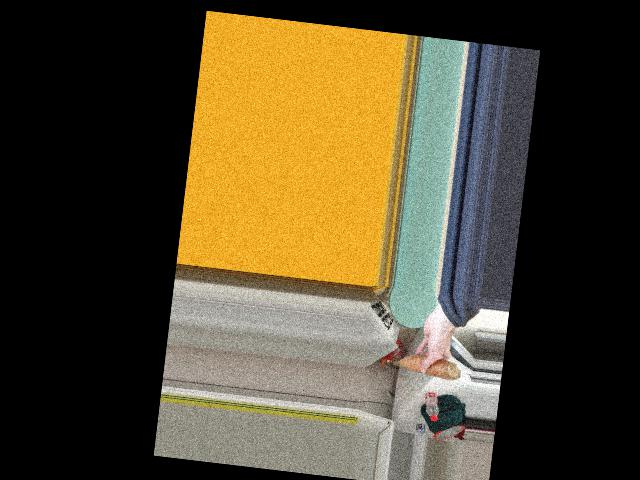sweet_potato: (399, 353, 453, 374)
